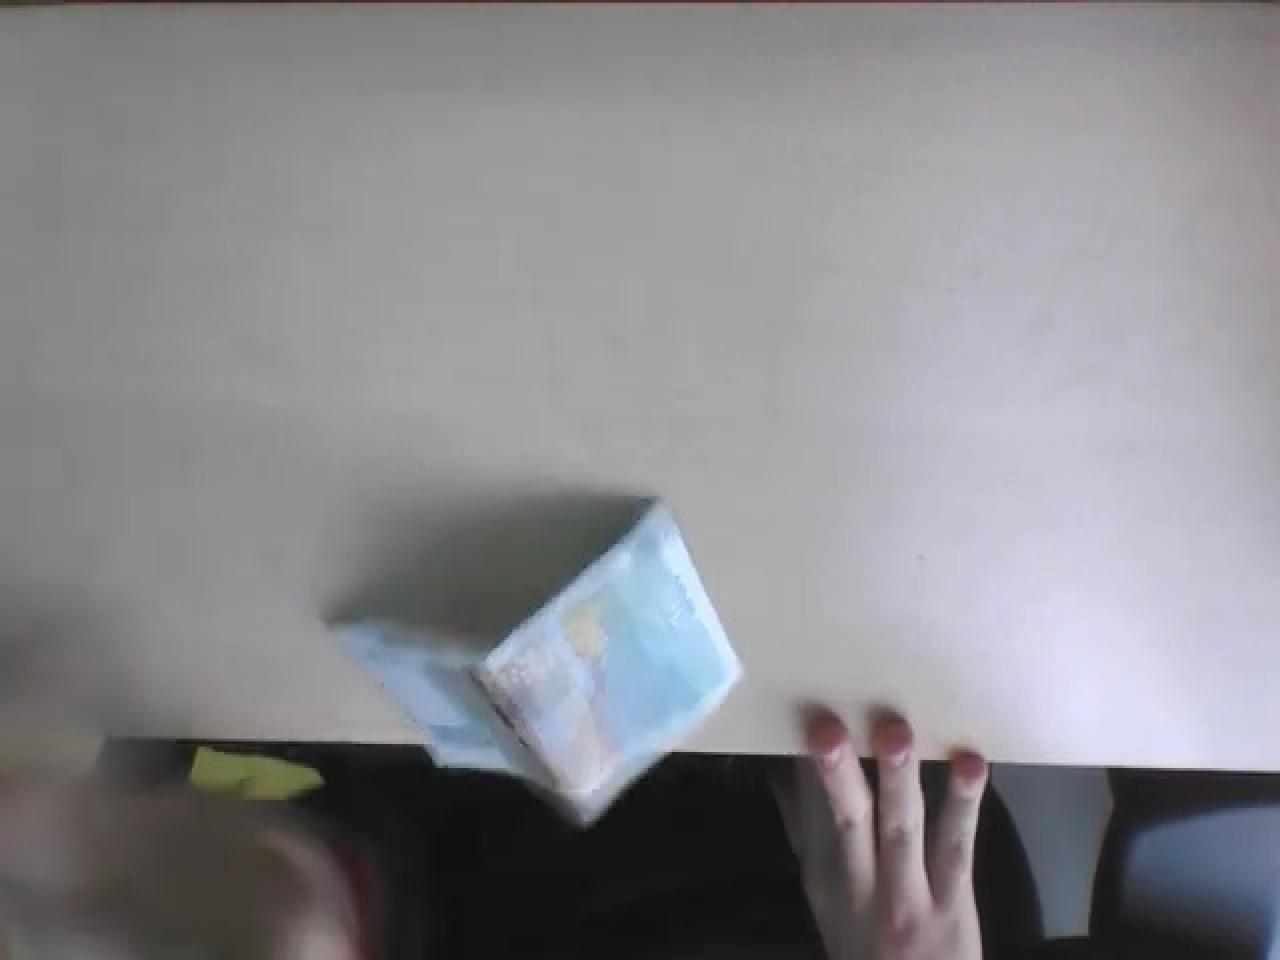100leva: (326, 499, 746, 832)
